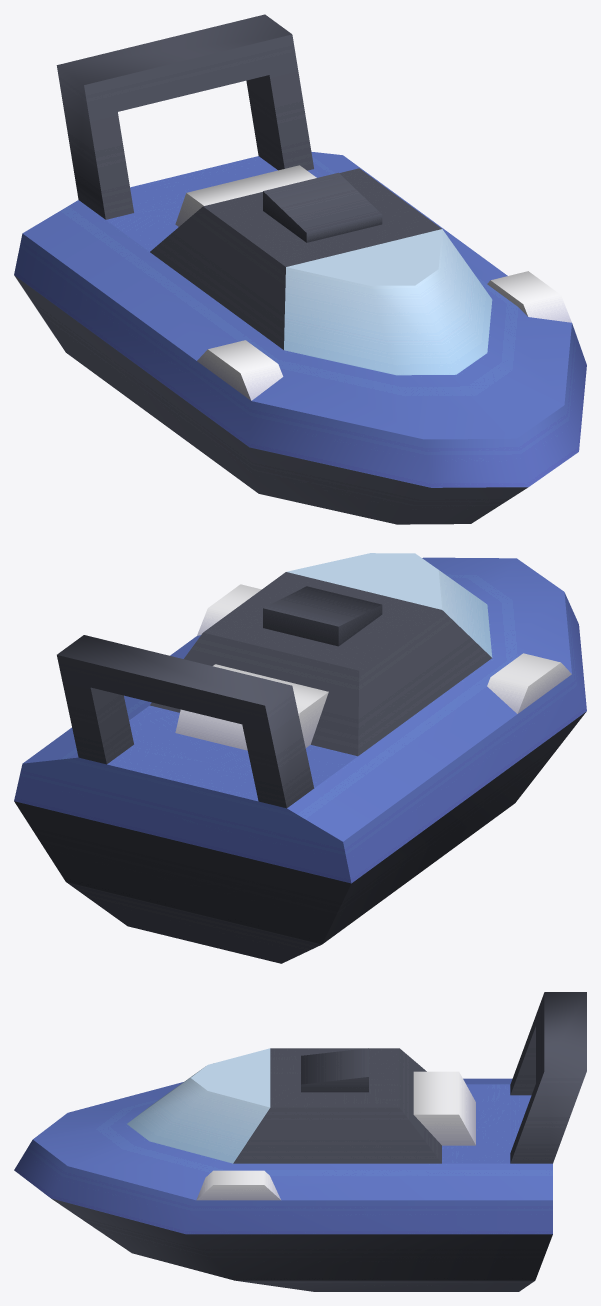
Rendered from boat-speed-a.glb.
3 views of the same model, one above another, from view 1: azimuth 30°, elevation 25°; view 2: azimuth 150°, elevation 25°; view 3: azimuth 270°, elevation 25° (orthographic). The views are drawn at different scales.
Visible parts, largest first — view 1: boat-speed-a; view 2: boat-speed-a; view 3: boat-speed-a.
Part boxes in pixels (box(x1,y1,x2,y2)): boat-speed-a: box(14, 14, 586, 524); boat-speed-a: box(14, 553, 586, 963); boat-speed-a: box(14, 992, 586, 1291).
Size of the model in its own units: 6.07 by 5.1 by 11.46.
1 material, 1 textured.
